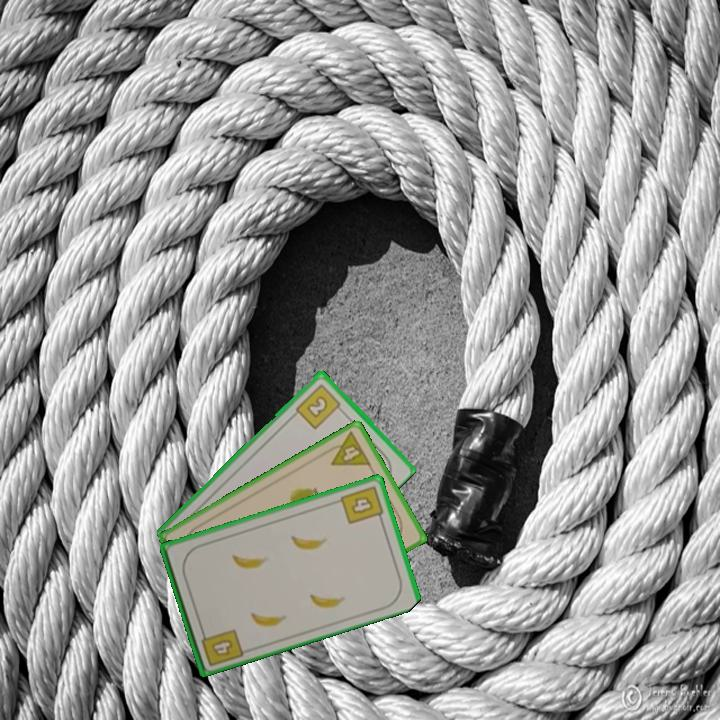2b: (292, 380, 346, 431)
4b: (337, 482, 386, 527), (197, 625, 246, 669)
4p: (321, 428, 374, 469)
